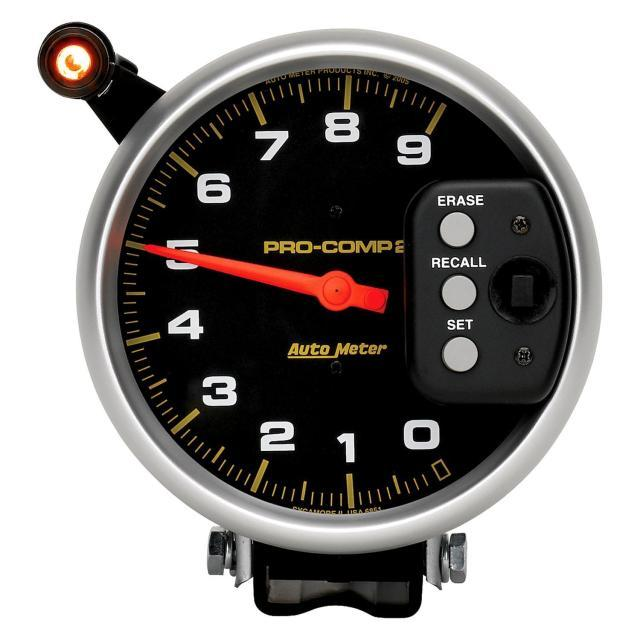Needle_Tip: (117, 229, 195, 271)
Needle_base: (303, 262, 369, 322)
max_value: (387, 114, 445, 189)
min_value: (388, 409, 447, 473)
